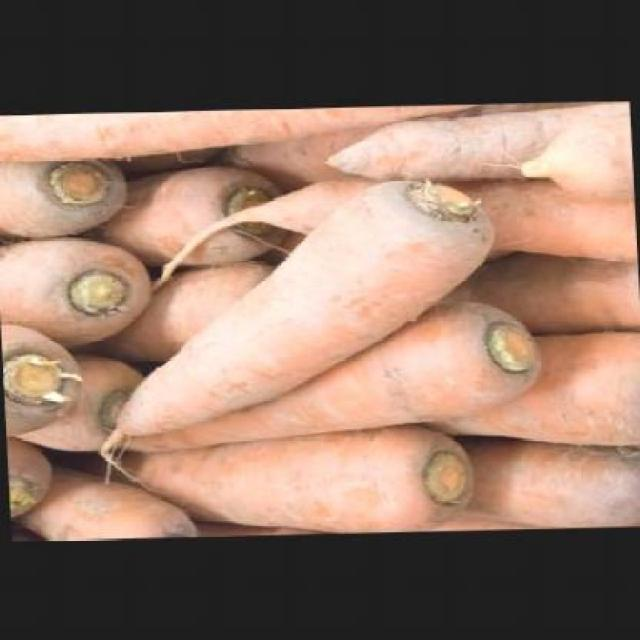carrot: (87, 175, 504, 451), (110, 298, 545, 452), (241, 164, 636, 281), (103, 421, 483, 537), (259, 168, 636, 278), (0, 102, 475, 162), (424, 322, 638, 453), (322, 99, 630, 181), (88, 158, 303, 268), (79, 256, 278, 366), (452, 438, 639, 532), (0, 231, 163, 332), (28, 454, 198, 538), (470, 244, 639, 328), (0, 143, 134, 237), (516, 99, 632, 199), (5, 410, 57, 522)
